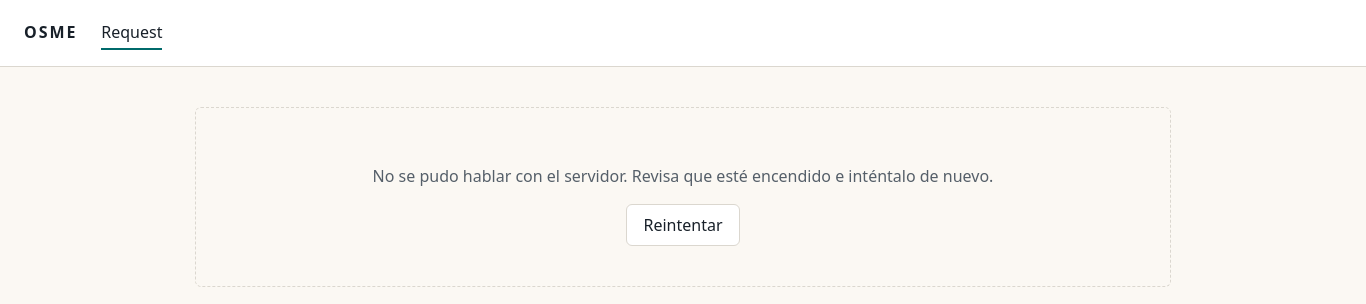
Test case: when the server does not answer the list says so and retries on request
Check: the message shows "No se pudo hablar con el servidor", box [373, 165, 993, 187]
Step 1. Click the button "Reintentar" → (683, 225), box [626, 204, 740, 246]
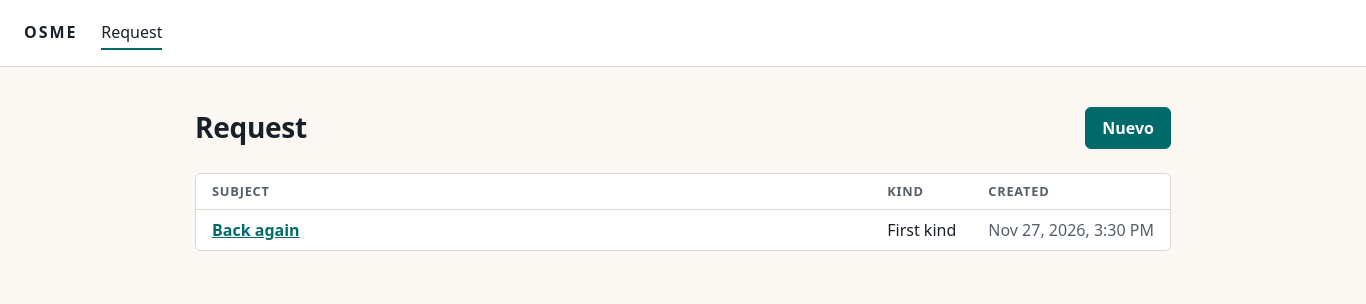
Check: the cell "Back again" is shown, box [196, 210, 871, 250]
